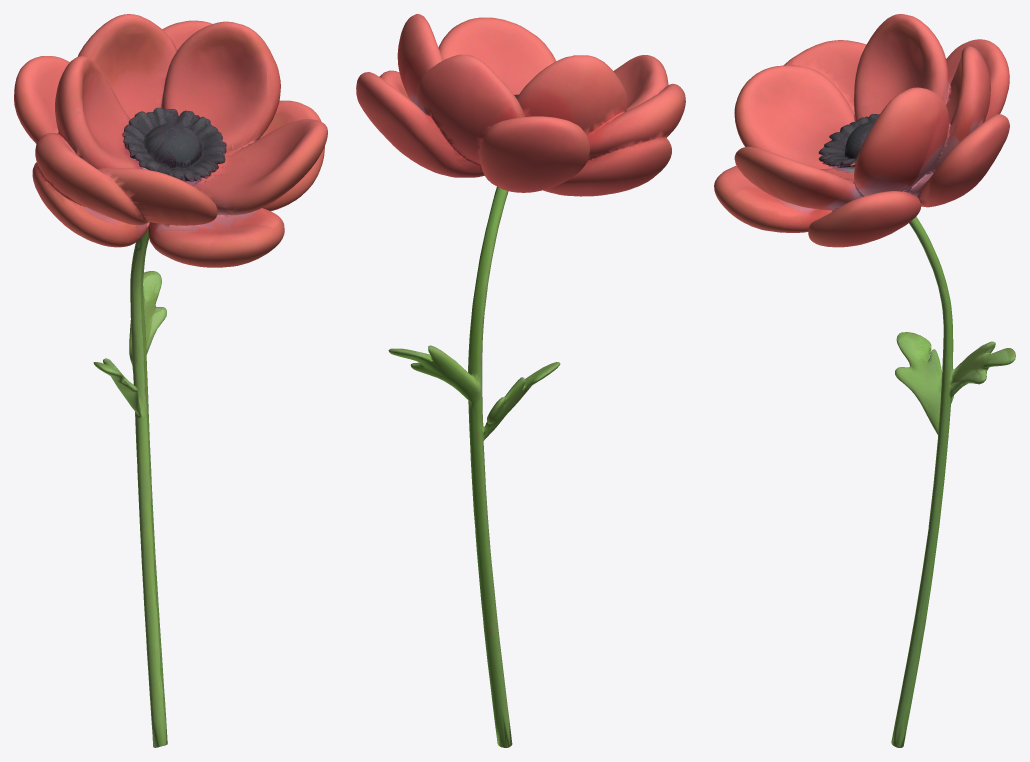
The model's file is coral_anemone.glb.
3 renders of one model, left to right at view 1: azimuth 30°, elevation 25°; view 2: azimuth 150°, elevation 25°; view 3: azimuth 270°, elevation 25°, orthographic. The views are drawn at different scales.
Size of the model in its own units: 0.7869 by 1.9 by 0.7451.
Materials: 1 (1 with a texture image).
